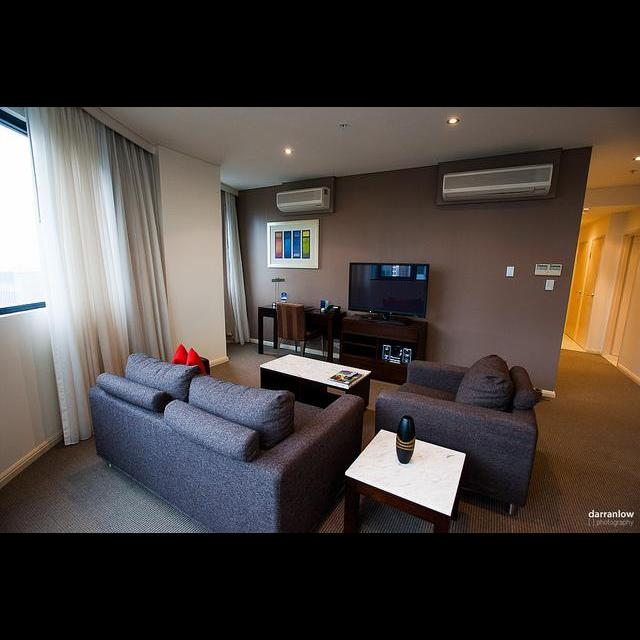Flat-Panel-TV: (346, 264, 429, 314)
